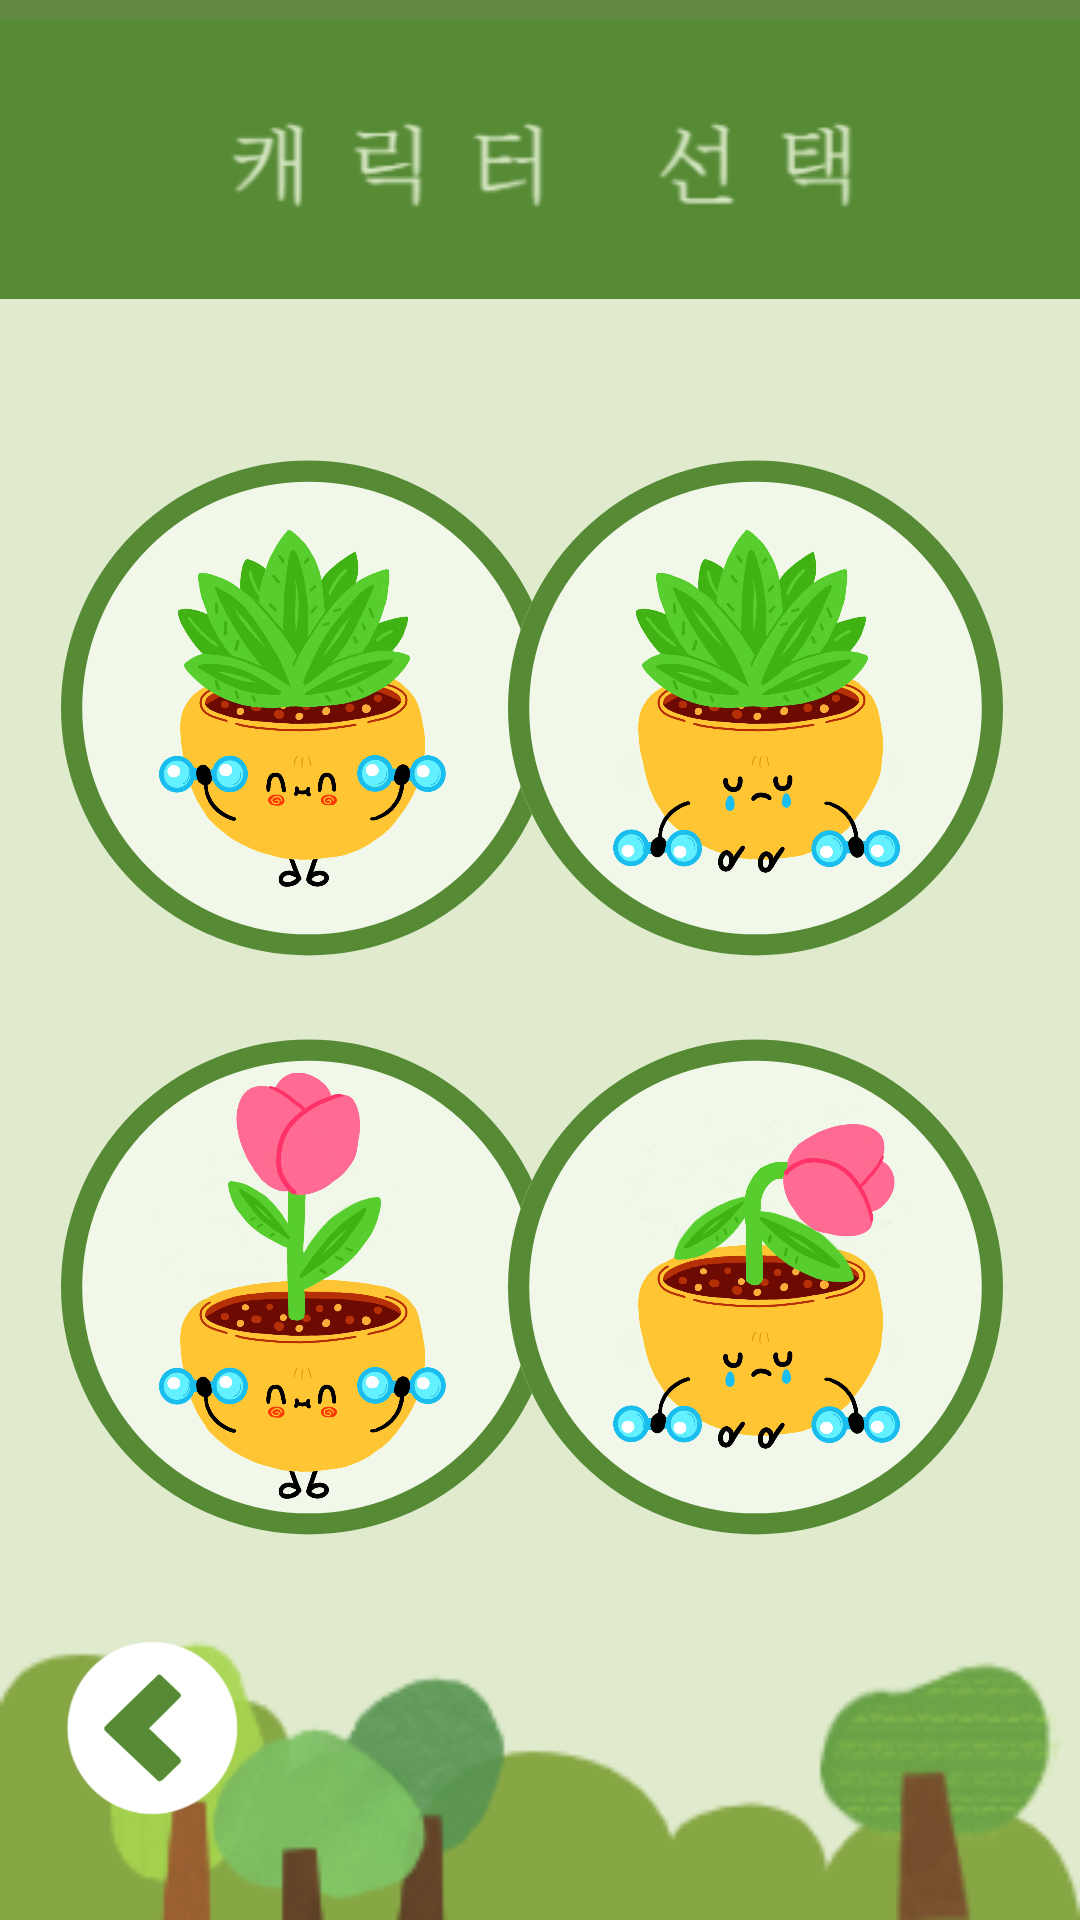

Screen size 1080px x 1920px. Icon name, then its center in pixels as (x=x, y=y):
back: (x=152, y=1726)
